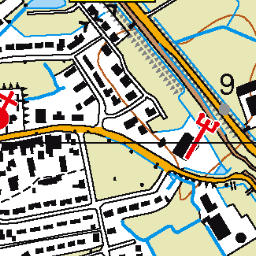church: (1, 88, 21, 134)
